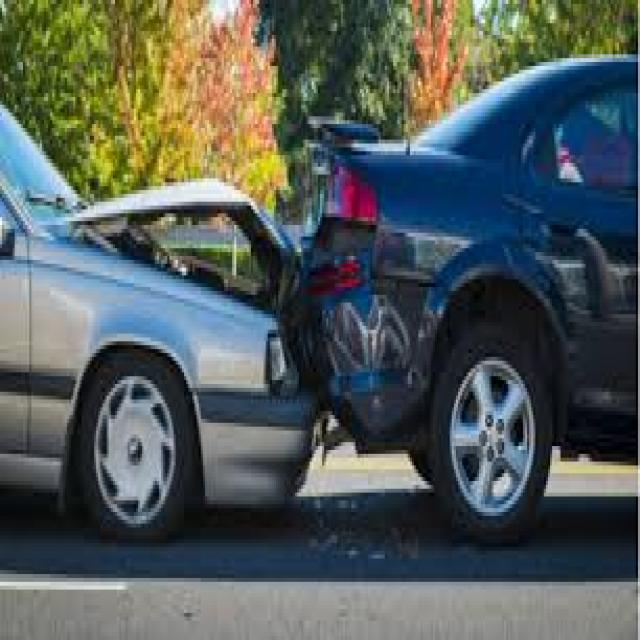severe: (52, 94, 545, 605)
